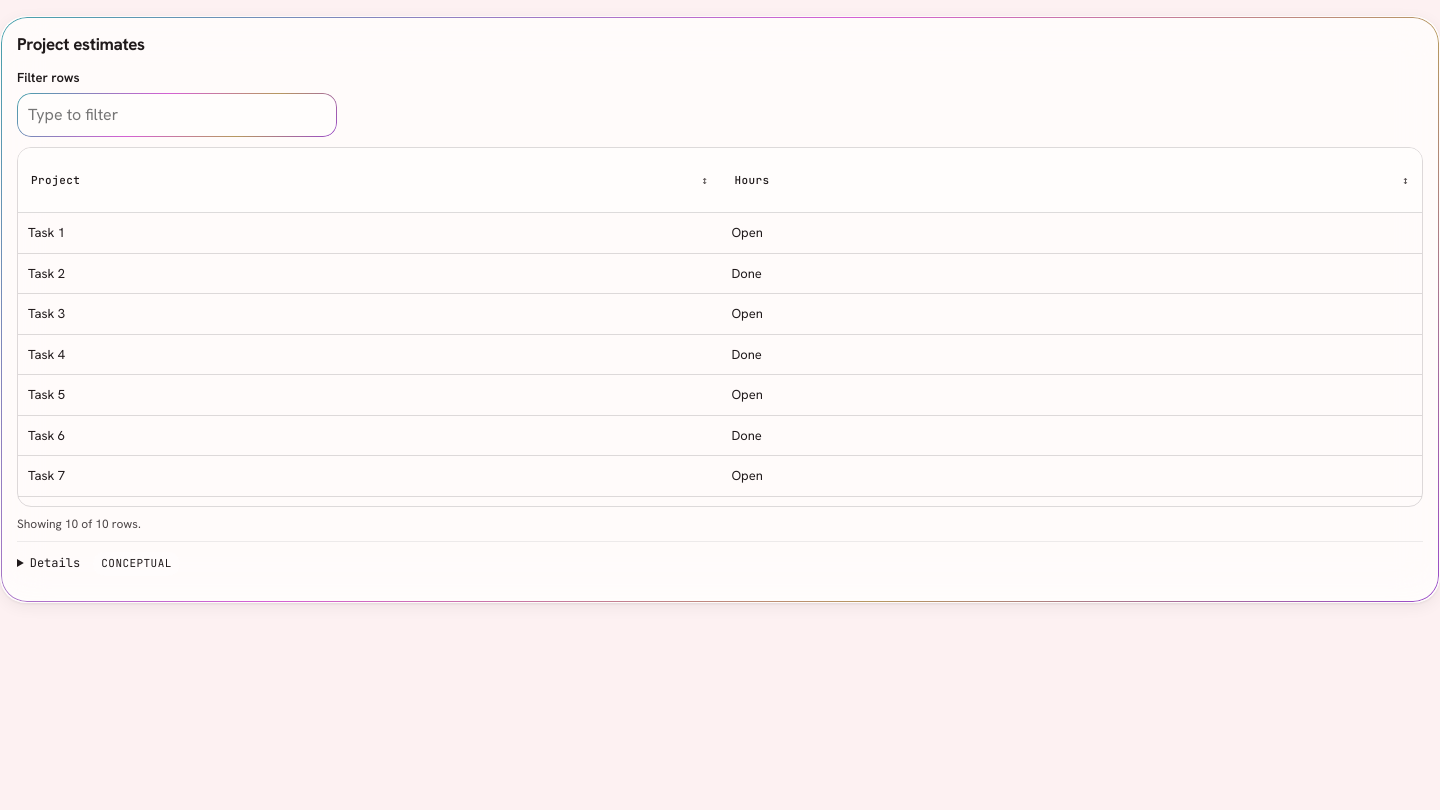
Scenario: sortable and filterable table › filters large tables across every column and reports an empty result
The width and height of the screenshot is (1440, 810).
Later steps or results of the test are not shown.
In the search field labelled "Filter rows": (177, 115) [17, 93, 337, 137], type "done"
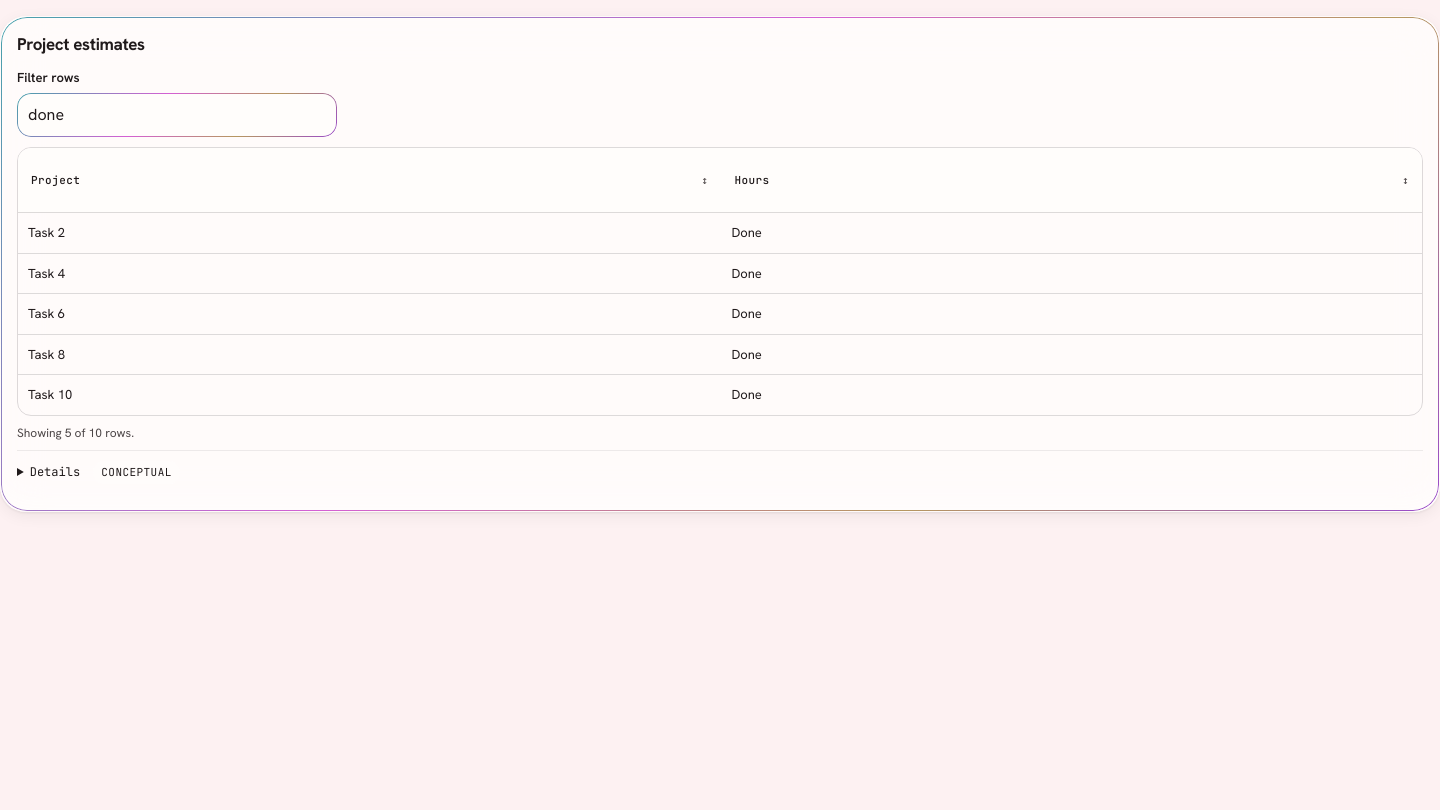
Expected: the message reads "Showing 5 of 10 rows.", [17, 425, 134, 441]
Replace the text in the search field labelled "Filter rows" with "task 10": (177, 115) [17, 93, 337, 137]
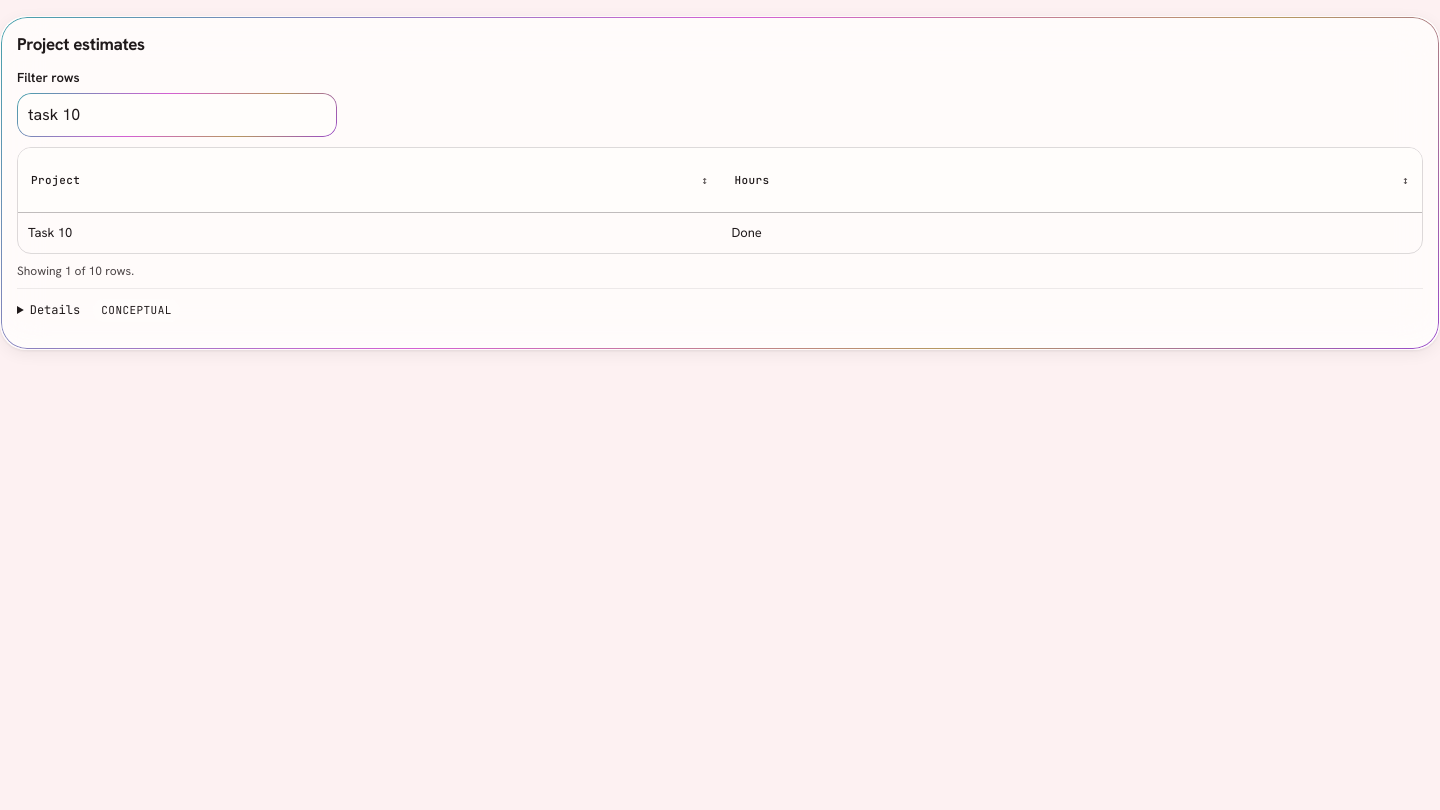
Replace the text in the search field labelled "Filter rows" with "nothing matches": (177, 115) [17, 93, 337, 137]
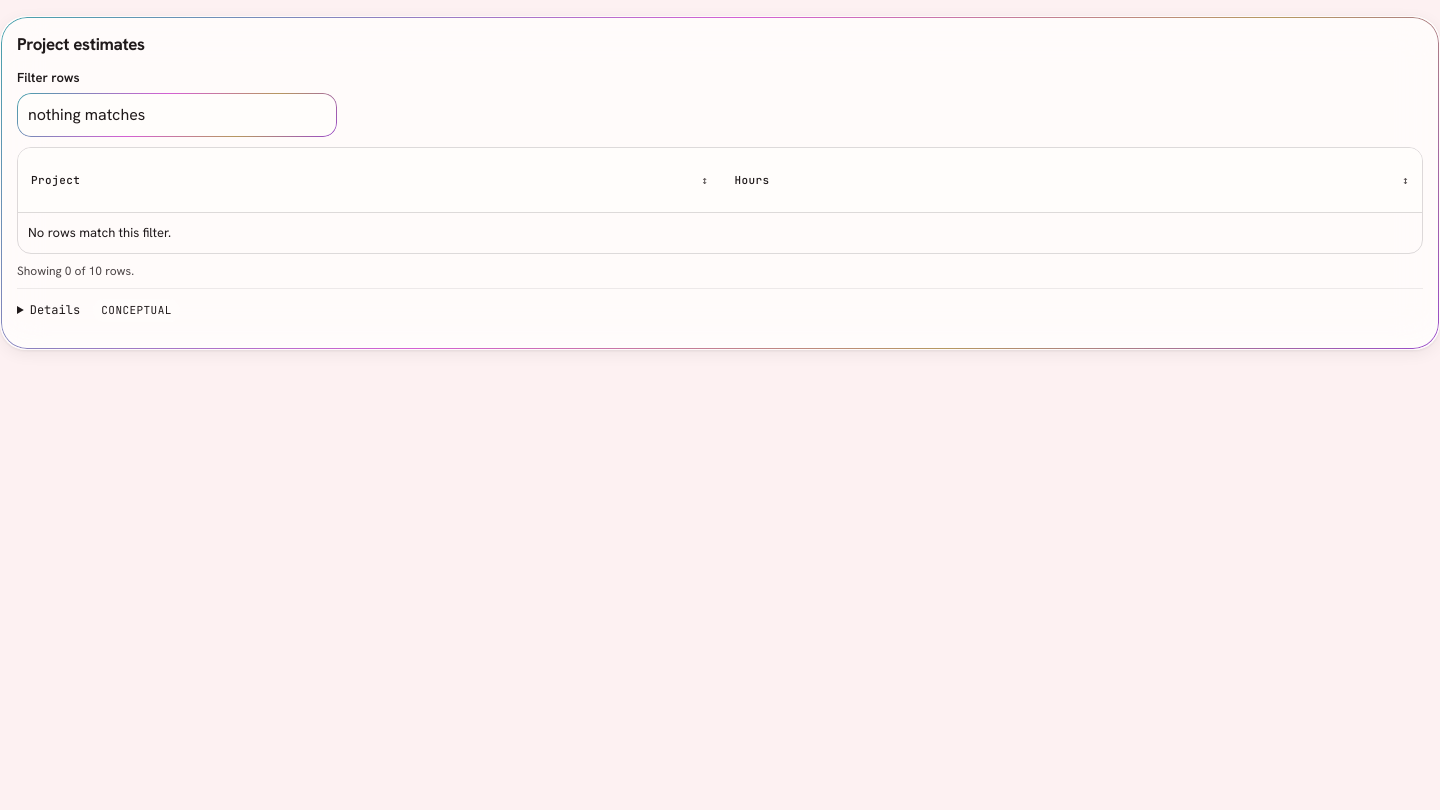
Expected: the table shows "No rows match this filter.", [28, 224, 171, 241]
